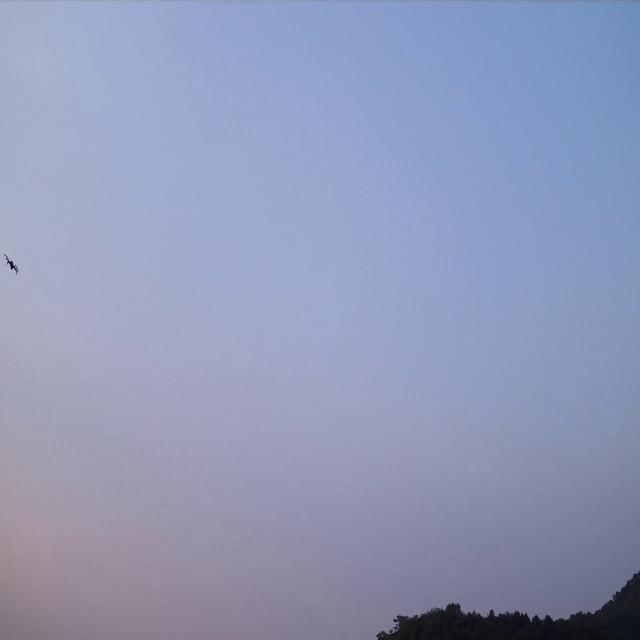UAV: (3, 252, 22, 275)
